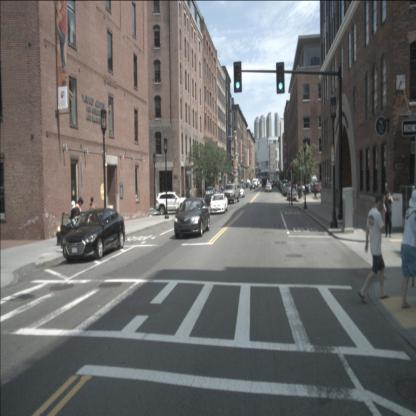human-pedestrian-adult: (358, 193, 390, 303), (400, 189, 416, 309), (70, 200, 81, 252), (383, 189, 394, 238), (74, 197, 83, 249), (89, 197, 96, 234)
vehicle-car: (60, 209, 125, 261), (174, 198, 210, 238), (155, 191, 187, 215), (210, 194, 228, 214), (204, 187, 216, 206), (310, 180, 322, 192), (287, 188, 297, 200), (235, 185, 245, 197), (283, 183, 291, 196), (280, 182, 286, 192), (266, 182, 272, 192), (252, 179, 258, 188), (268, 180, 274, 188), (262, 178, 267, 187), (279, 182, 284, 191), (250, 182, 255, 190), (245, 181, 250, 188), (278, 182, 283, 189), (256, 178, 260, 186)
vehicle-truck: (223, 184, 240, 204), (269, 174, 275, 185)
